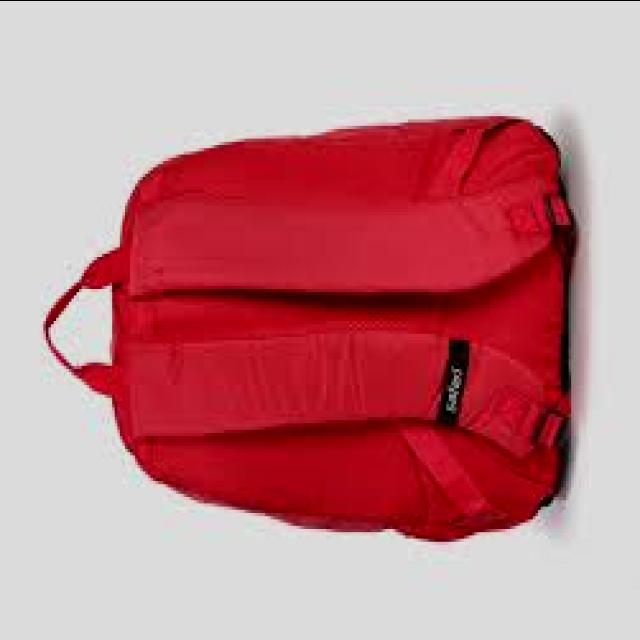backpack: (42, 116, 575, 545)
